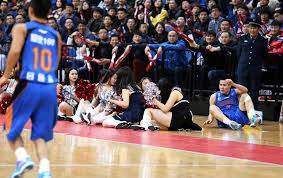10+: (7, 2, 281, 178)
down: (200, 76, 263, 132), (141, 79, 198, 136), (100, 67, 139, 130), (79, 69, 117, 125), (60, 63, 84, 116)
